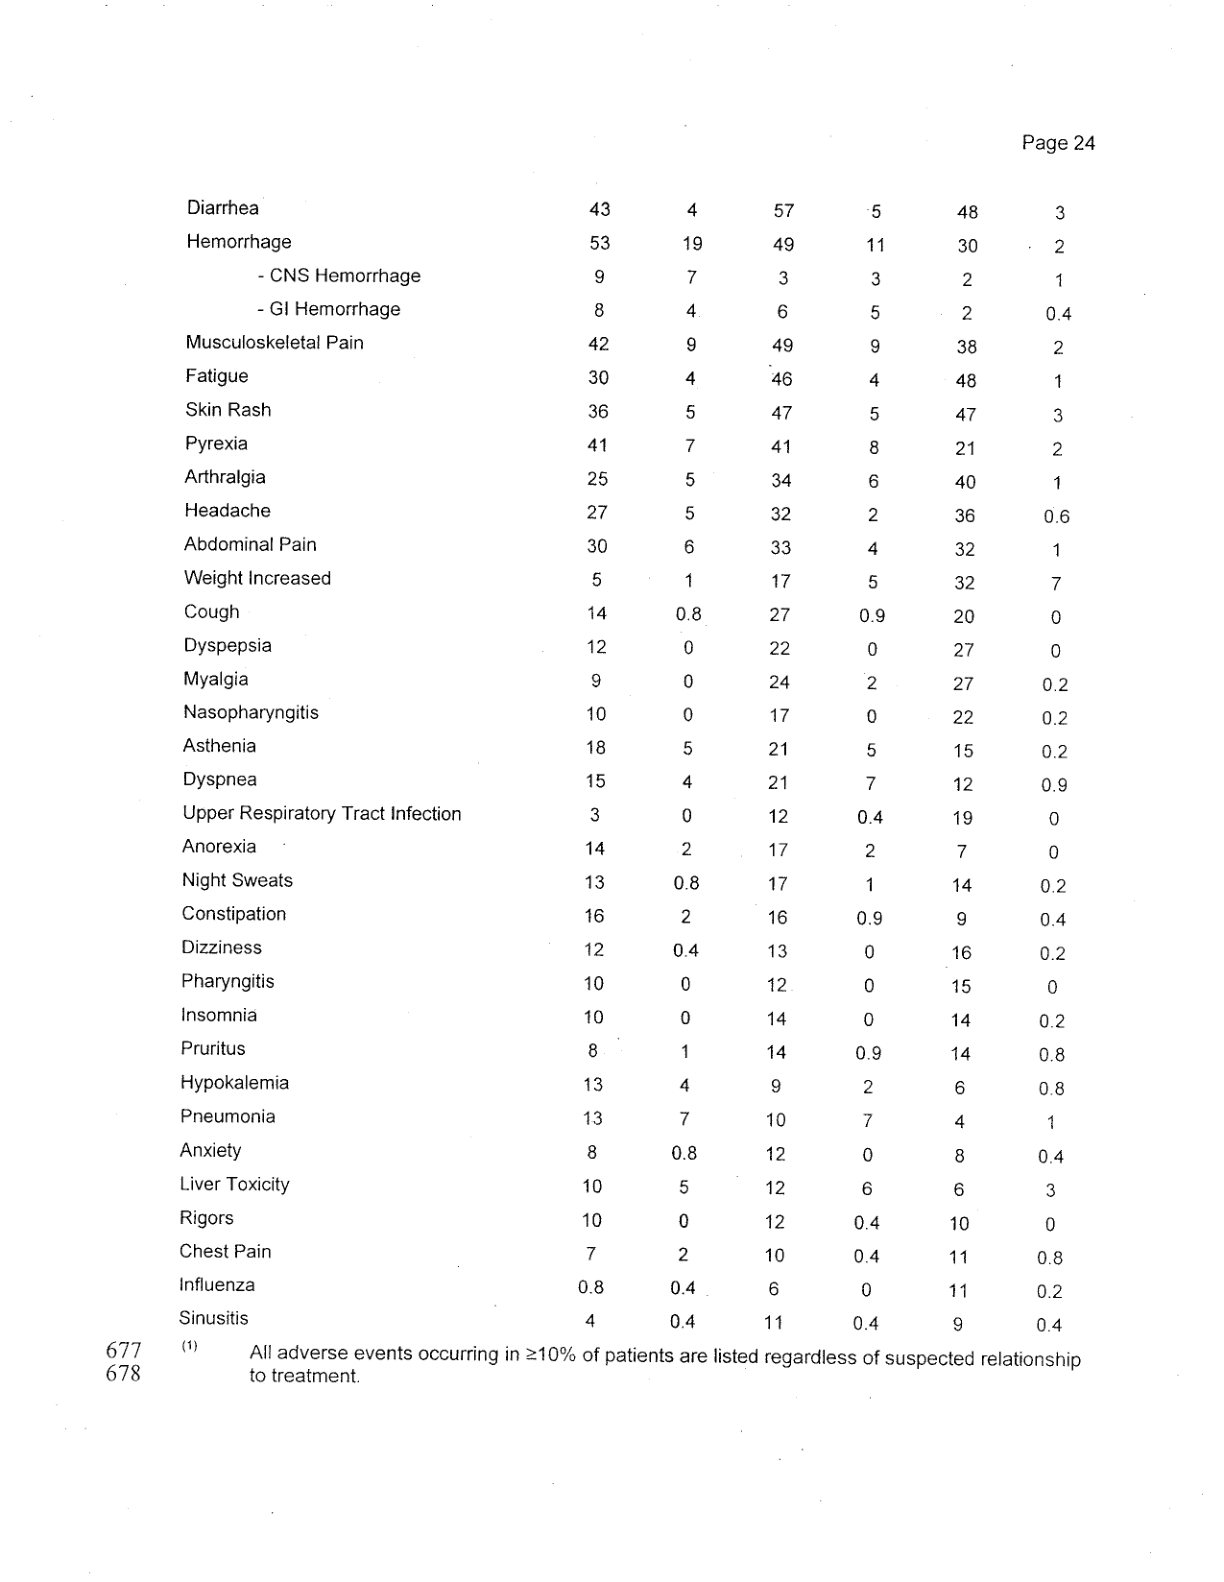nolines: (173, 194, 1079, 1335)
